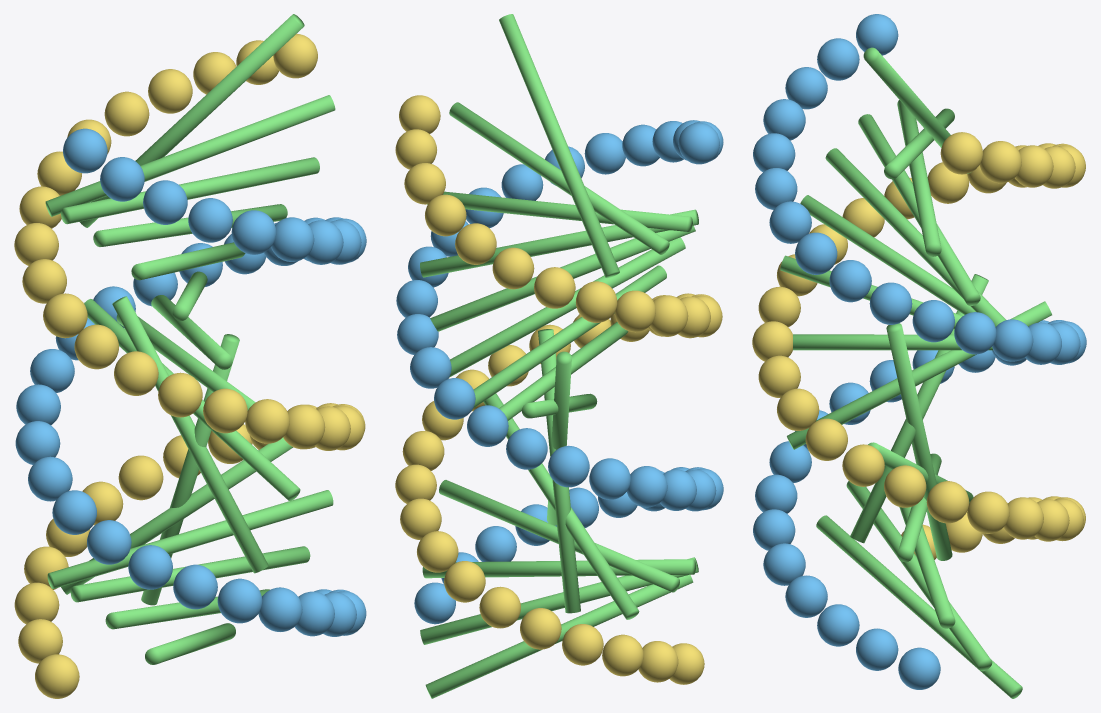
File: dna_double_helix.glb
3 renders of one model, left to right at view 1: azimuth 30°, elevation 25°; view 2: azimuth 150°, elevation 25°; view 3: azimuth 270°, elevation 25°, orthographic. The views are drawn at different scales.
Parts seen in each view (by area): view 1: rung_node (×16), s2_node (×27), s1_node (×24); view 2: rung_node (×16), s2_node (×25), s1_node (×23); view 3: rung_node (×16), s1_node (×26), s2_node (×22).
Boxes of the visible parts, box(x1,y1,x2,y2) form: rung_node (×16): box(45, 14, 335, 664); s2_node (×27): box(14, 33, 364, 698); s1_node (×24): box(15, 128, 361, 636); rung_node (×16): box(420, 14, 698, 698); s2_node (×25): box(395, 95, 722, 684); s1_node (×23): box(396, 121, 719, 624); rung_node (×16): box(780, 47, 1051, 698); s1_node (×26): box(753, 14, 1080, 689); s2_node (×22): box(752, 132, 1083, 552).
Bounding box in the file's own units: 1.26 × 2.69 × 1.26.
